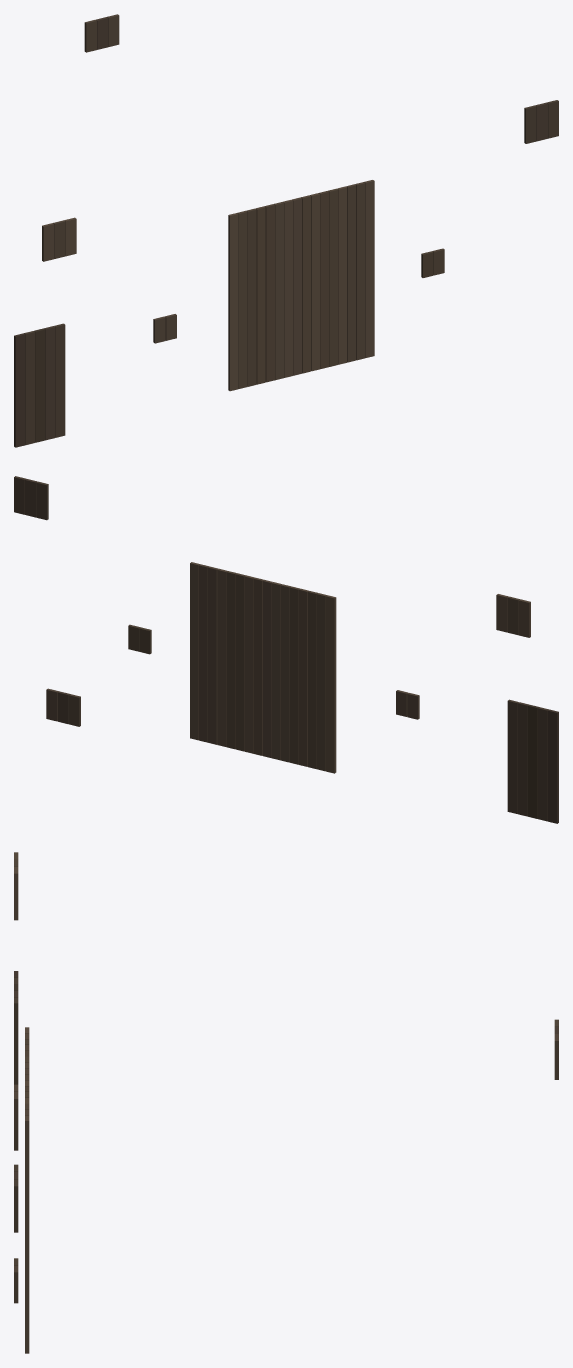
File: SM_Bld_012_Wood.glb
The picture shows the model from 3 angles, top to bottom: view 1: azimuth 30°, elevation 25°; view 2: azimuth 150°, elevation 25°; view 3: azimuth 270°, elevation 25°; orthographic projection. The views are drawn at different scales.
Parts seen in each view (by area): view 1: SM_Bld_012_Wood; view 2: SM_Bld_012_Wood; view 3: SM_Bld_012_Wood.
Part boxes in pixels (box(x1,y1,x2,y2)): SM_Bld_012_Wood: box(14, 14, 558, 447); SM_Bld_012_Wood: box(14, 476, 558, 823); SM_Bld_012_Wood: box(14, 852, 558, 1353).
Size of the model in its own units: 9.74 by 3.67 by 6.37.
